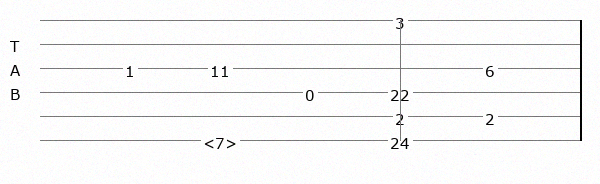0: (305, 85, 319, 100)
1: (125, 61, 139, 76)
11: (210, 61, 234, 76)
2: (395, 109, 409, 124), (485, 109, 499, 124)
22: (390, 85, 414, 100)
24: (390, 133, 414, 148)
3: (395, 13, 409, 28)
6: (485, 61, 499, 76)
harmonic: (203, 133, 241, 148)
